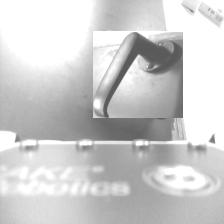Door Handle: (94, 31, 183, 119)
